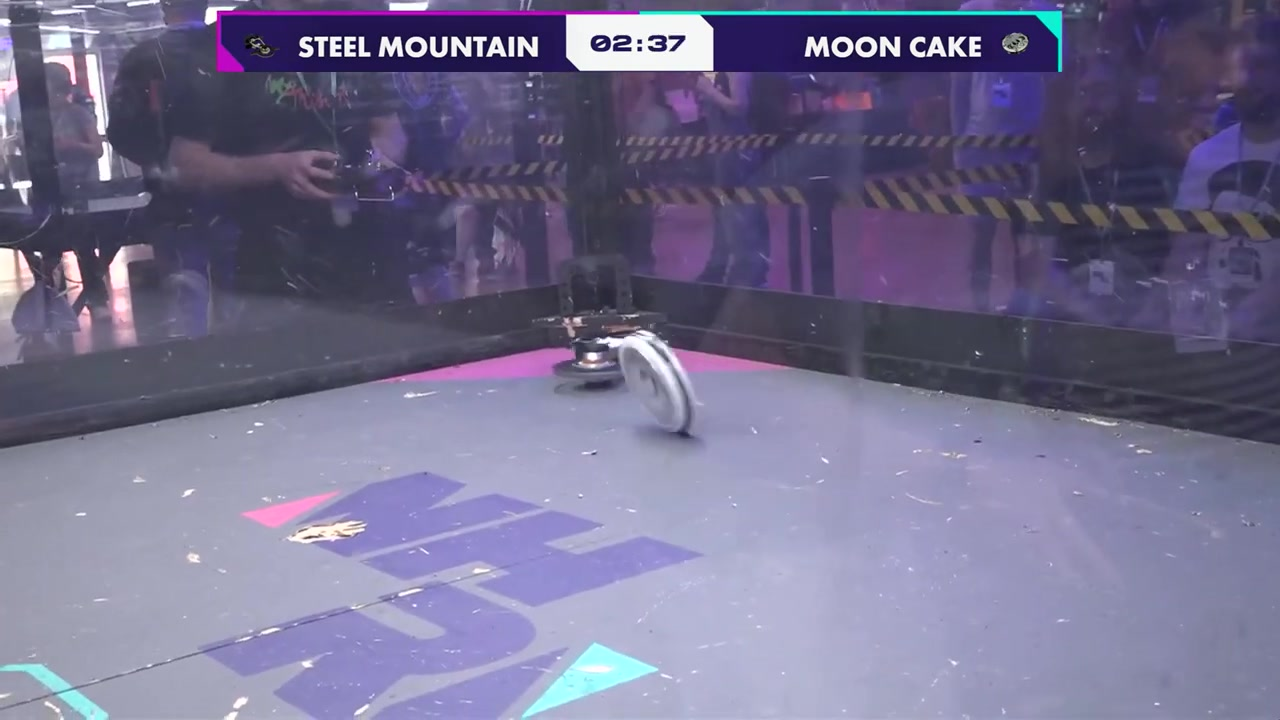combatbot: (618, 329, 700, 439), (552, 337, 624, 386)
